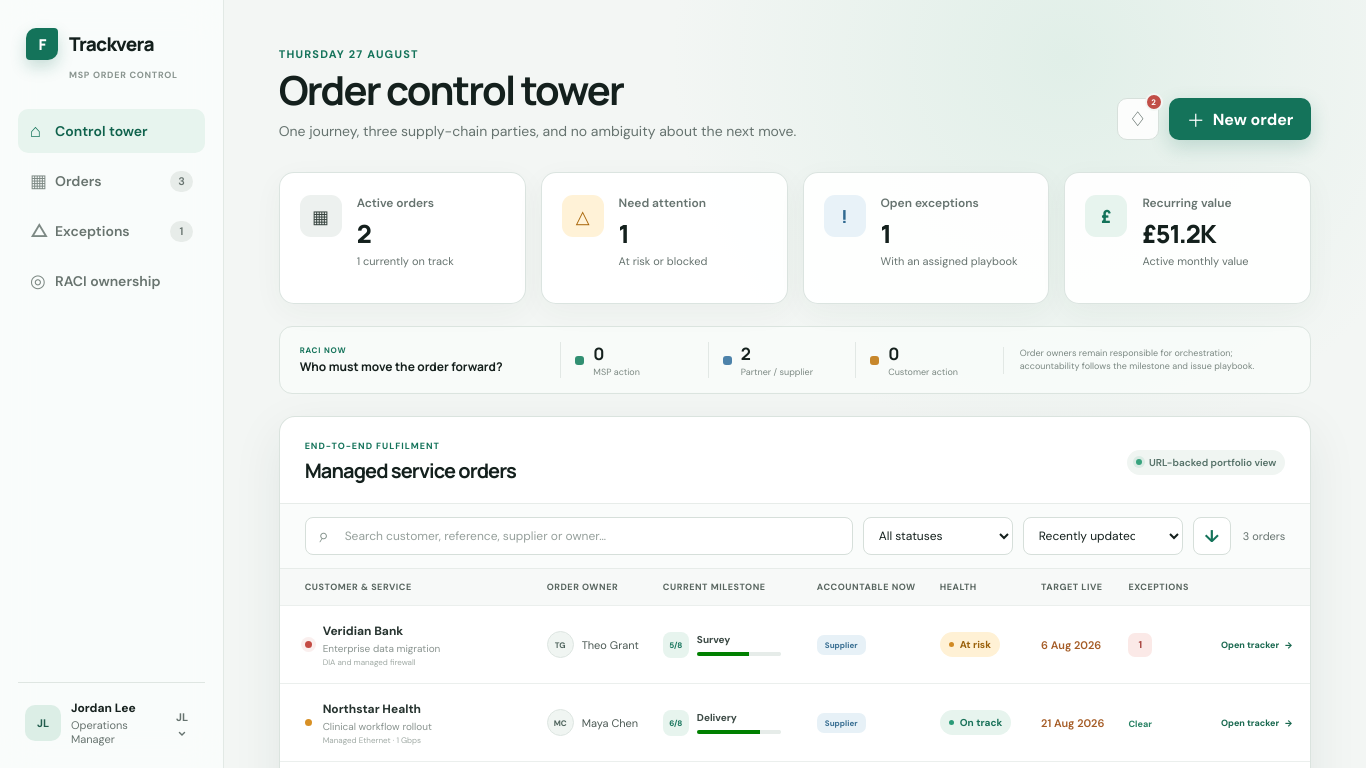
MSP order orchestration › validates each creation step and focuses the first invalid field
Expected: the heading "Order control tower" is shown, [279, 62, 623, 117]
Click the button "＋ New order": (1240, 119) [1169, 98, 1311, 140]
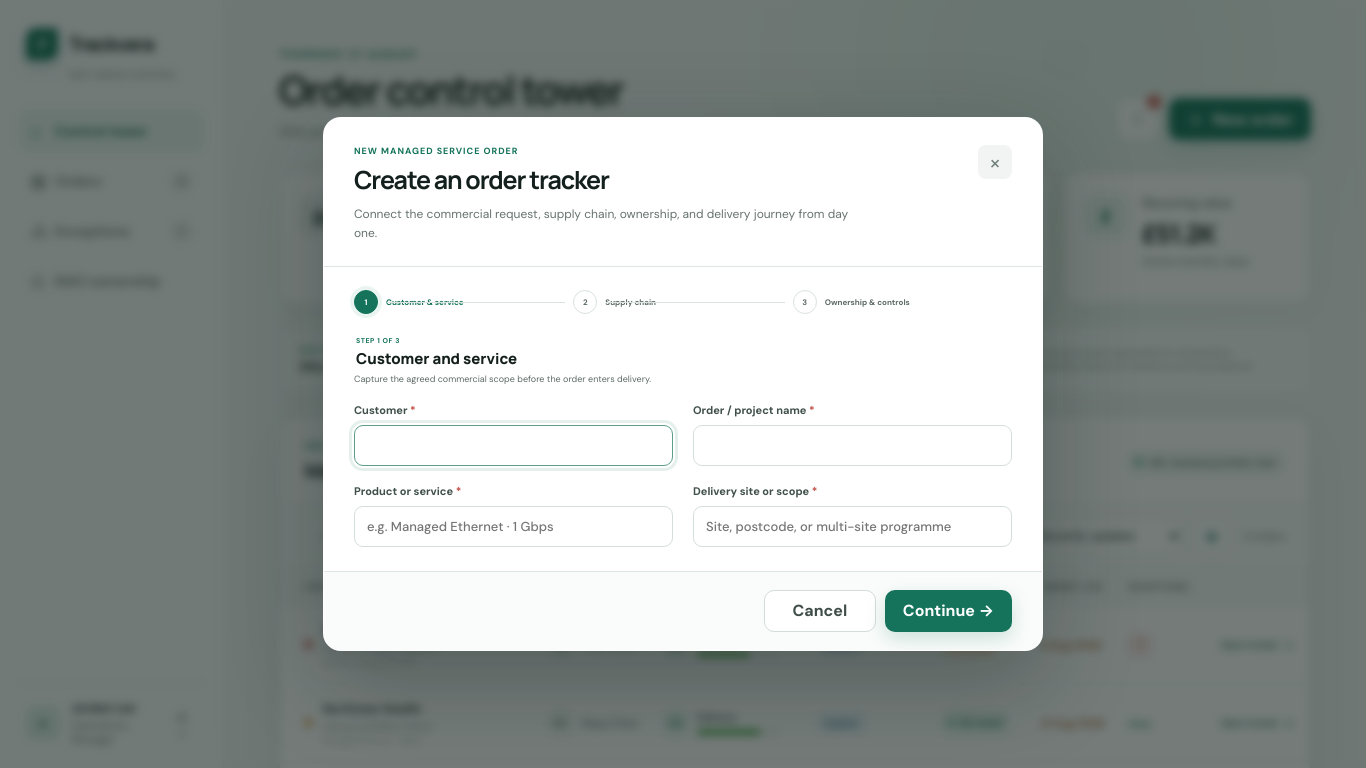
Expected: the dialog "Create an order tracker" is shown, [323, 117, 1043, 651]
Click the button "Continue →": (948, 611) [885, 590, 1012, 632]
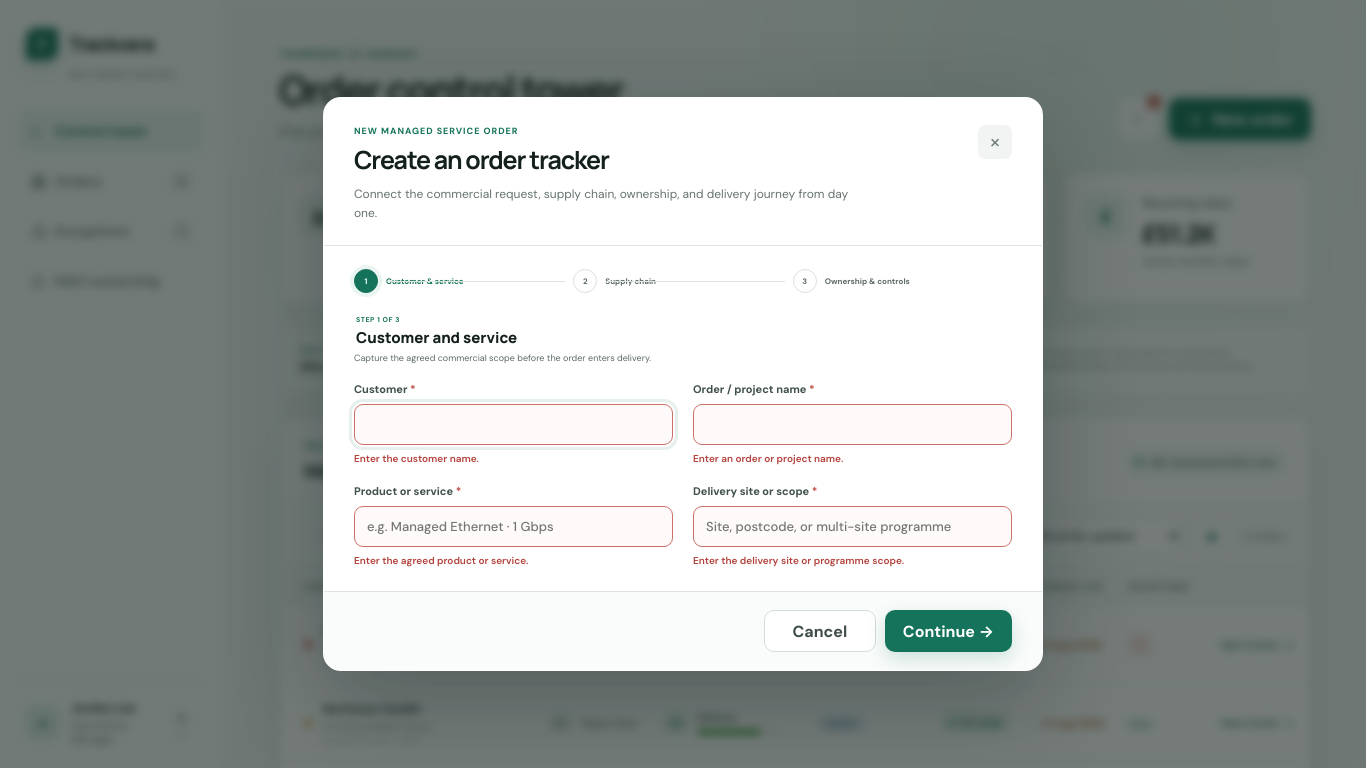
Expected: the text "Enter the customer name." is shown, [354, 452, 479, 465]
Expected: the text "Enter an order or project name." is shown, [693, 452, 843, 465]
Expected: the text "Enter the agreed product or service." is shown, [354, 554, 528, 567]
